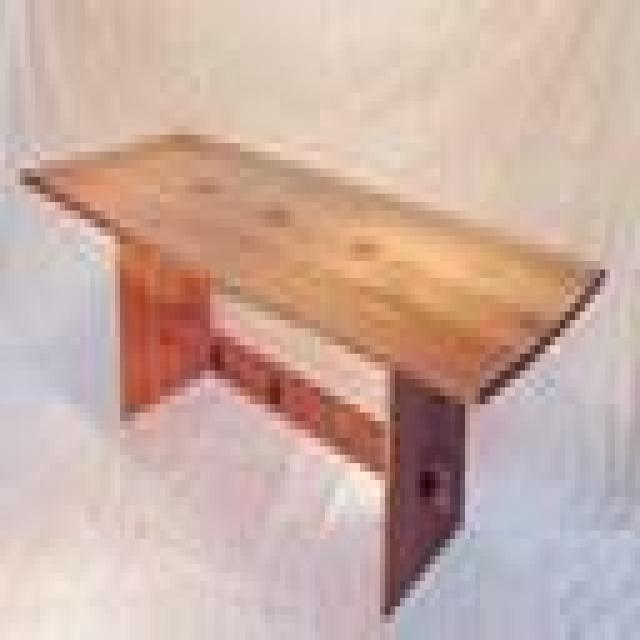table: (16, 123, 610, 618)
